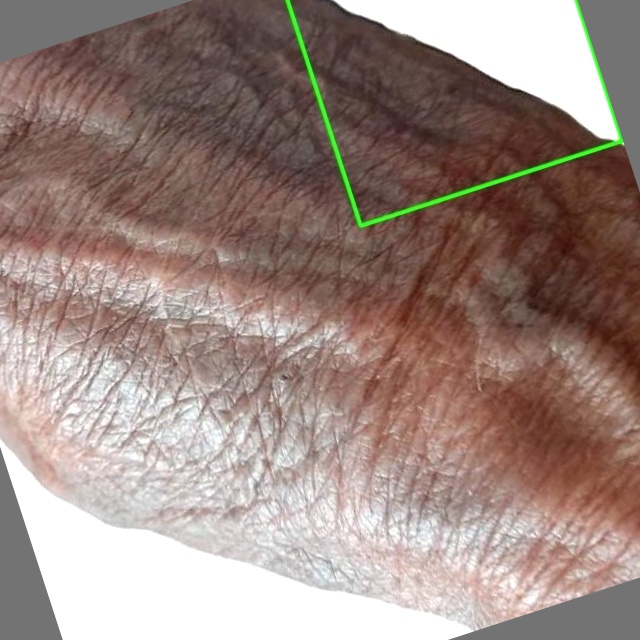Eczema: (287, 0, 622, 226)
